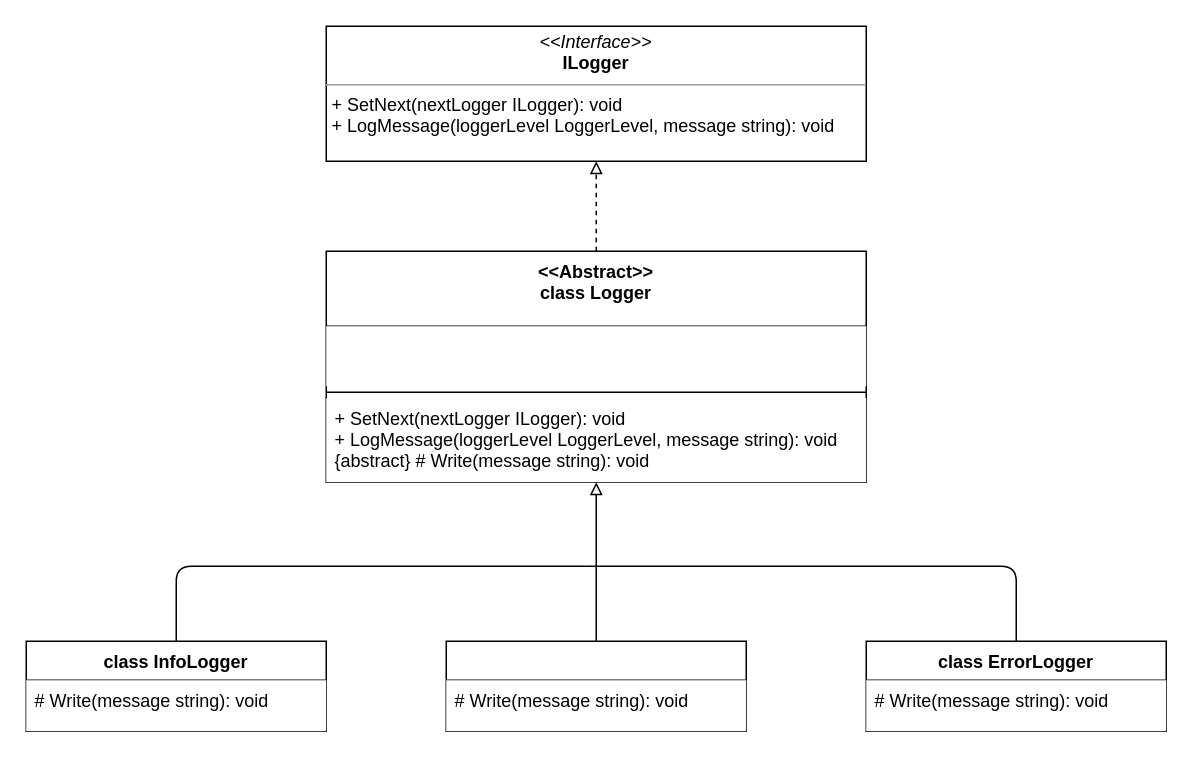
Image size: 1193x762. Some labels were removed from this diagram. The box of each missing label's shape, as (x1, y1, x2, y2) in pixels:
# loggerLevel LoggerLevel - _nextLogger: ILogger: (326, 326, 866, 386)
class WarningLogger: (445, 640, 746, 731)
